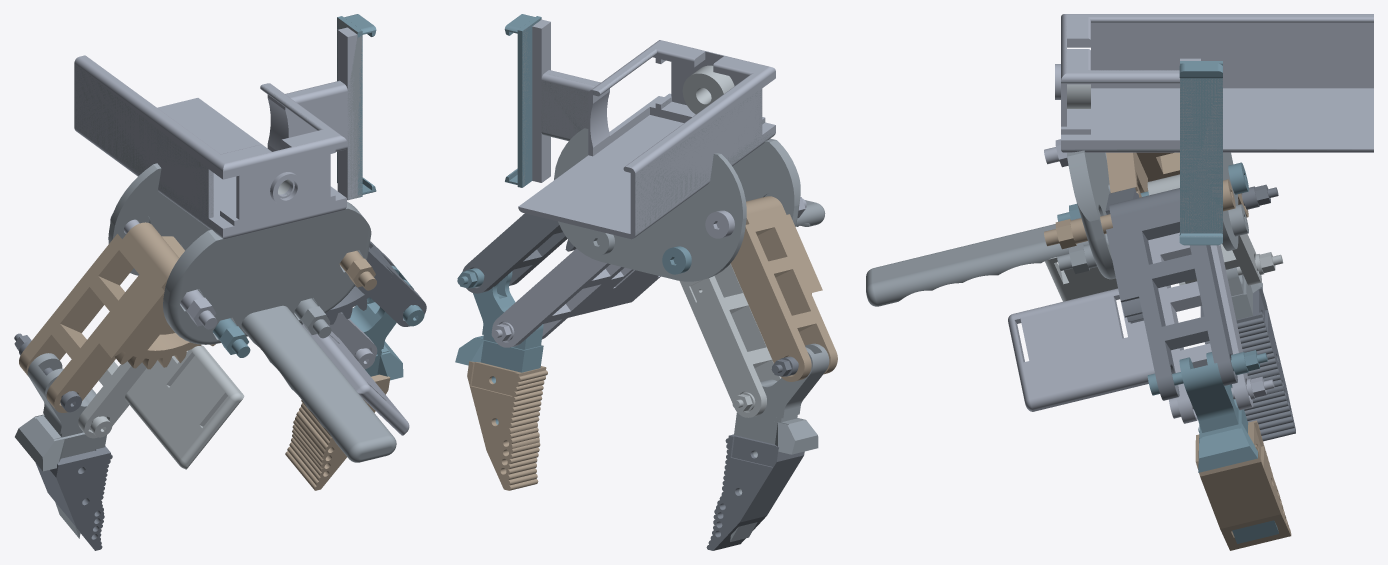
The model's file is flexiv.glb.
3 renders of one model, left to right at view 1: azimuth 30°, elevation 25°; view 2: azimuth 150°, elevation 25°; view 3: azimuth 270°, elevation 25°, orthographic. The views are drawn at different scales.
Parts seen in each view (by area): view 1: moving-handle, handheld-housing, left-drive, left-inner-link, left-carrier, right-fingertip-pad, right-inner-link, left-fingertip-pad, right-drive, right-carrier, tracker-bracket, pivot-p01 (+4 smaller); view 2: handheld-housing, moving-handle, left-drive, left-fingertip-pad, left-inner-link, right-inner-link, right-fingertip-pad, left-carrier, right-drive, right-carrier, tracker-bracket, camera-support (+3 smaller); view 3: handheld-housing, right-inner-link, moving-handle, right-drive, tracker-bracket, right-carrier, left-fingertip-pad, right-fingertip-pad, left-inner-link, left-drive, pivot-p04, pivot-p03 (+5 smaller).
Part boxes in pixels (x1=…): moving-handle: x1=74, y1=17, x2=396, y2=462; handheld-housing: x1=74, y1=27, x2=357, y2=239; left-drive: x1=19, y1=222, x2=215, y2=412; left-inner-link: x1=78, y1=345, x2=244, y2=469; left-carrier: x1=15, y1=353, x2=106, y2=538; right-fingertip-pad: x1=35, y1=446, x2=112, y2=550; right-inner-link: x1=302, y1=312, x2=409, y2=435; left-fingertip-pad: x1=285, y1=374, x2=390, y2=490; right-drive: x1=301, y1=241, x2=426, y2=326; right-carrier: x1=350, y1=265, x2=413, y2=380; tracker-bracket: x1=337, y1=14, x2=376, y2=197; pivot-p01: x1=110, y1=213, x2=217, y2=329; handheld-housing: x1=518, y1=19, x2=775, y2=239; moving-handle: x1=512, y1=19, x2=825, y2=281; left-drive: x1=730, y1=196, x2=837, y2=381; left-fingertip-pad: x1=467, y1=361, x2=547, y2=490; left-inner-link: x1=679, y1=263, x2=781, y2=417; right-inner-link: x1=492, y1=248, x2=660, y2=347; right-fingertip-pad: x1=706, y1=434, x2=804, y2=550; left-carrier: x1=730, y1=343, x2=829, y2=541; right-drive: x1=462, y1=213, x2=576, y2=293; right-carrier: x1=455, y1=271, x2=543, y2=424; tracker-bracket: x1=504, y1=14, x2=541, y2=187; camera-support: x1=682, y1=65, x2=734, y2=114; handheld-housing: x1=1055, y1=14, x2=1373, y2=152; right-inner-link: x1=1008, y1=232, x2=1253, y2=423; moving-handle: x1=866, y1=26, x2=1373, y2=306; right-drive: x1=1105, y1=187, x2=1237, y2=400; tracker-bracket: x1=1179, y1=61, x2=1222, y2=245; right-carrier: x1=1179, y1=352, x2=1278, y2=543; left-fingertip-pad: x1=1195, y1=420, x2=1291, y2=550; right-fingertip-pad: x1=1200, y1=287, x2=1295, y2=441; left-inner-link: x1=1045, y1=174, x2=1261, y2=301; left-drive: x1=1106, y1=152, x2=1248, y2=217; pivot-p04: x1=1044, y1=179, x2=1235, y2=249; pivot-p03: x1=1057, y1=204, x2=1248, y2=273.
Bounding box in the file's own units: 0.1483 × 0.1854 × 0.1688.
